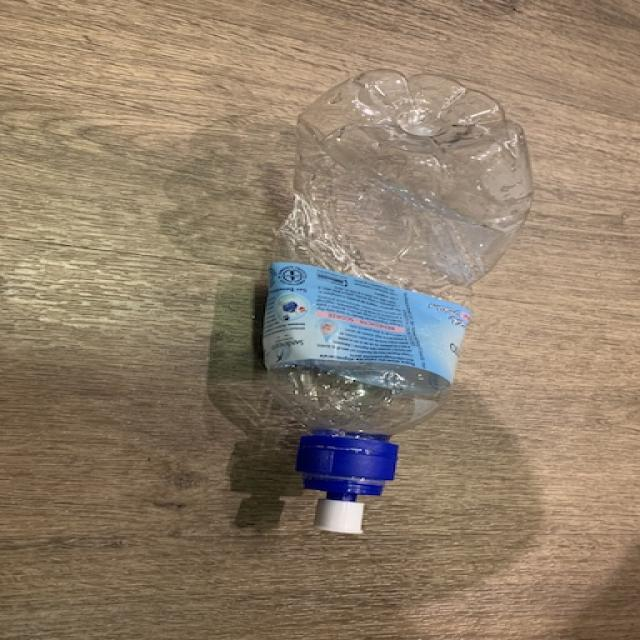Waste: (263, 70, 533, 534)
